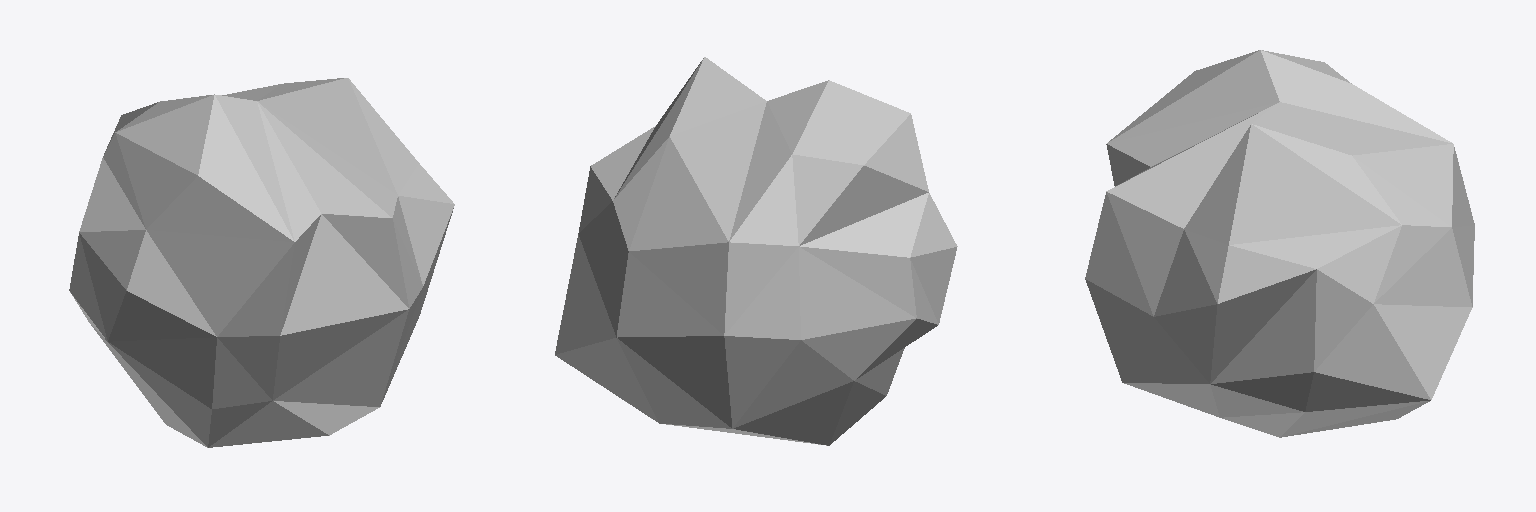
File: projectile_1.obj
3 renders of one model, left to right at view 1: azimuth 30°, elevation 25°; view 2: azimuth 150°, elevation 25°; view 3: azimuth 270°, elevation 25°, orthographic.
Visible parts, largest first — view 1: initialShadingGroup pSphere1; view 2: initialShadingGroup pSphere1; view 3: initialShadingGroup pSphere1.
Part boxes in pixels (bbox=[...]): initialShadingGroup pSphere1: bbox=[69, 78, 454, 447]; initialShadingGroup pSphere1: bbox=[555, 57, 957, 445]; initialShadingGroup pSphere1: bbox=[1085, 50, 1474, 437].
Bounding box in the file's own units: 0.6006 × 0.6199 × 0.6043.